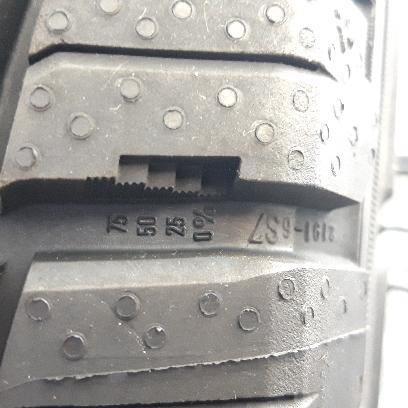temoin:100: (84, 152, 246, 208)
